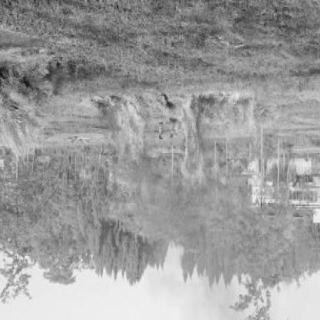Fire: (178, 100, 230, 194), (110, 97, 147, 189), (237, 100, 269, 168)
